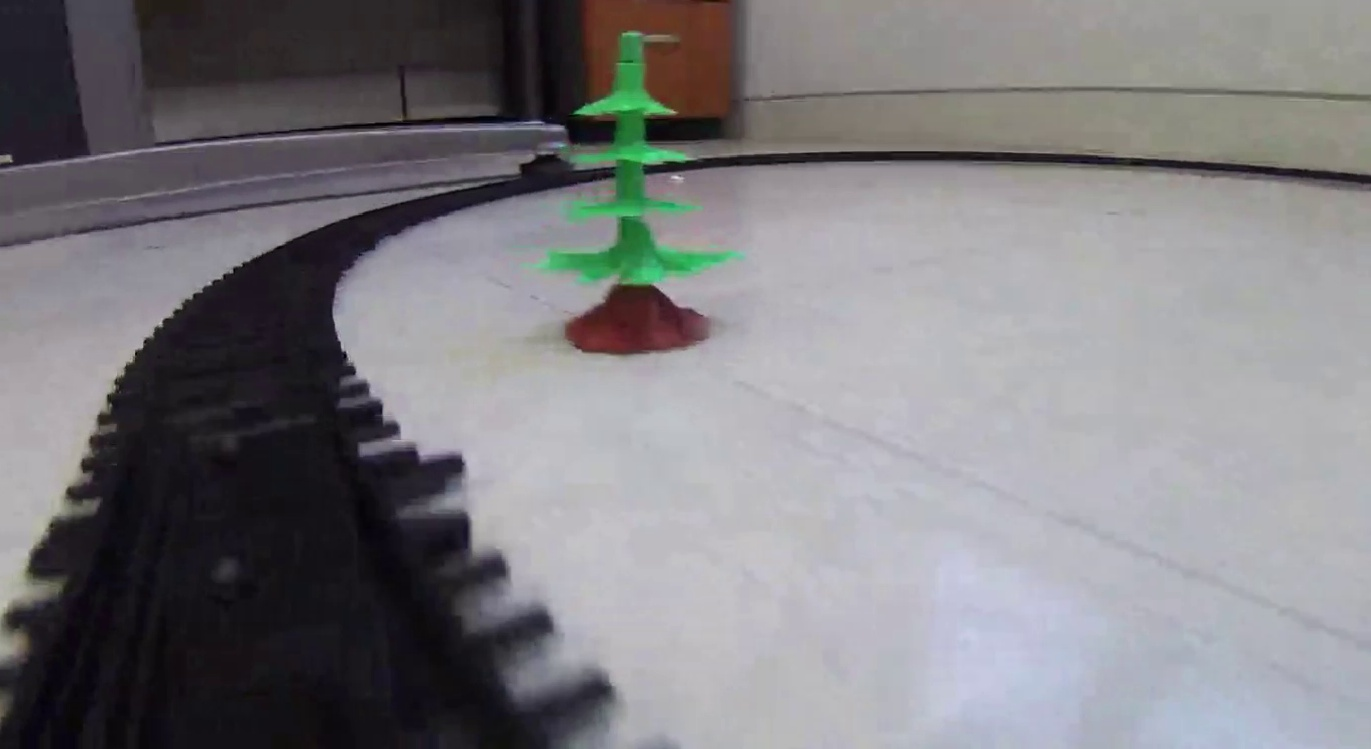tree: (533, 33, 745, 356)
